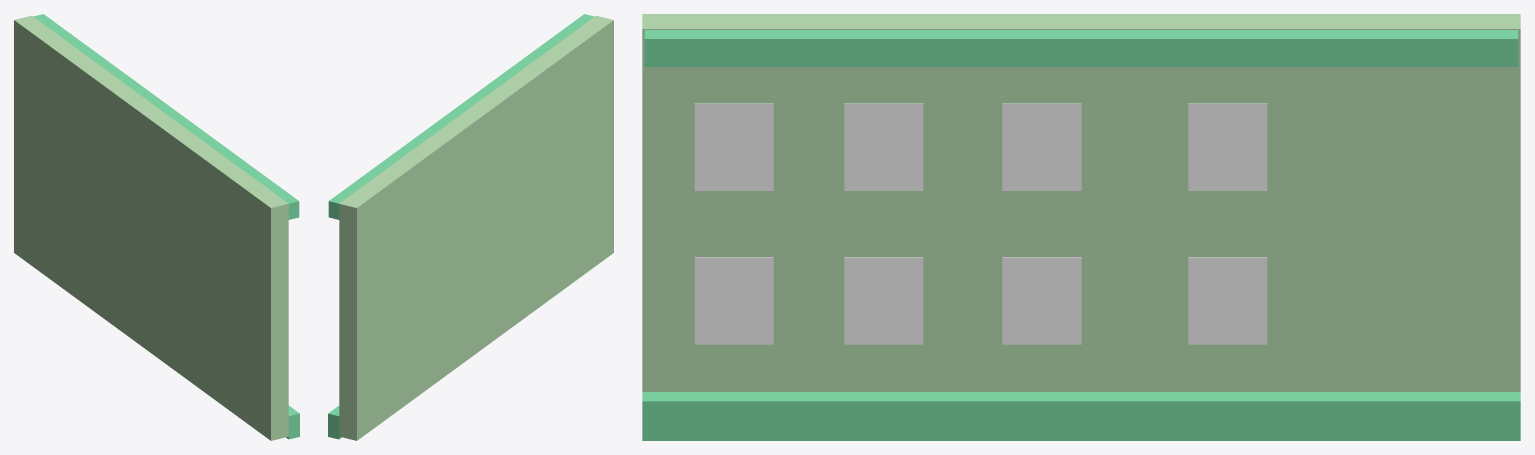
Rendered from TaskBoard.fbx.
3 renders of one model, left to right at view 1: azimuth 30°, elevation 25°; view 2: azimuth 150°, elevation 25°; view 3: azimuth 270°, elevation 25°, orthographic. The views are drawn at different scales.
Visible parts, largest first — view 1: Cube, Cube.001, Cube.002; view 2: Cube, Cube.001, Cube.002; view 3: Cube, Cube.002, Cube.001, Cube.003, Cube.004, Cube.005, Cube.006, Cube.007, Cube.008, Cube.009, Cube.010.
Part boxes in pixels (x1,y1,x2,y2): Cube: (14, 15, 288, 440); Cube.001: (33, 14, 299, 219); Cube.002: (286, 405, 299, 439); Cube: (339, 15, 613, 440); Cube.001: (328, 14, 594, 219); Cube.002: (328, 405, 341, 439); Cube: (642, 14, 1520, 391); Cube.002: (642, 392, 1520, 440); Cube.001: (644, 30, 1518, 66); Cube.003: (694, 103, 773, 190); Cube.004: (694, 257, 773, 344); Cube.005: (844, 103, 923, 190); Cube.006: (844, 257, 923, 344); Cube.007: (1002, 103, 1081, 190); Cube.008: (1002, 257, 1081, 344); Cube.009: (1188, 103, 1267, 190); Cube.010: (1188, 257, 1267, 344).
Bounding box in the file's own units: 26 × 203 × 400.
